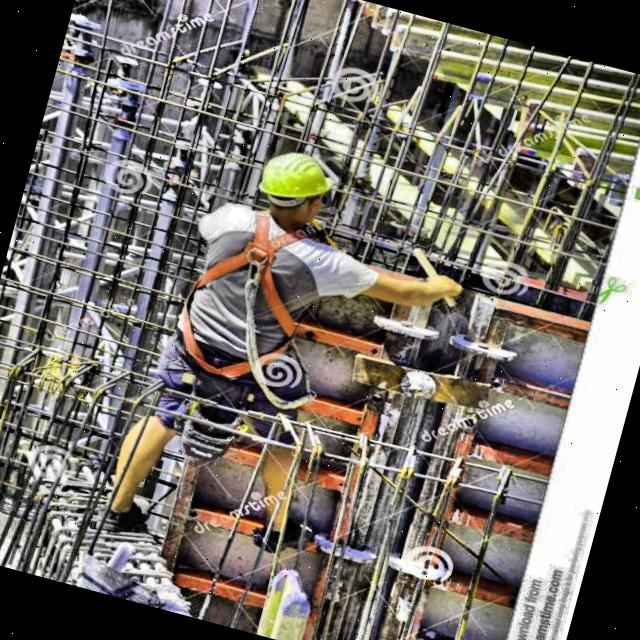helmet: (241, 134, 352, 239)
